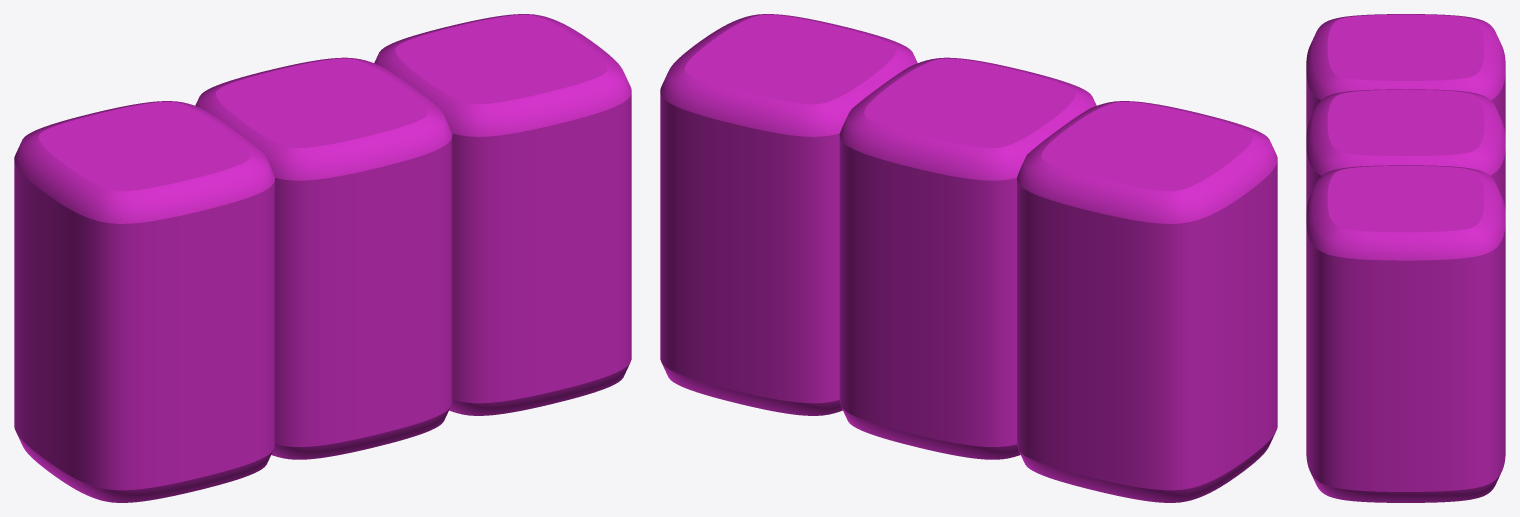
The model's file is MinusSign.fbx.
3 views of the same model, side by side, from view 1: azimuth 30°, elevation 25°; view 2: azimuth 150°, elevation 25°; view 3: azimuth 270°, elevation 25° (orthographic). The views are drawn at different scales.
Parts seen in each view (by area): view 1: MinusSign; view 2: MinusSign; view 3: MinusSign.
Part boxes in pixels (x1,y1,x2,y2): MinusSign: [14, 14, 631, 502]; MinusSign: [660, 14, 1277, 502]; MinusSign: [1306, 14, 1505, 502].
Bounding box in the file's own units: 0.2619 × 0.14 × 0.0938.
